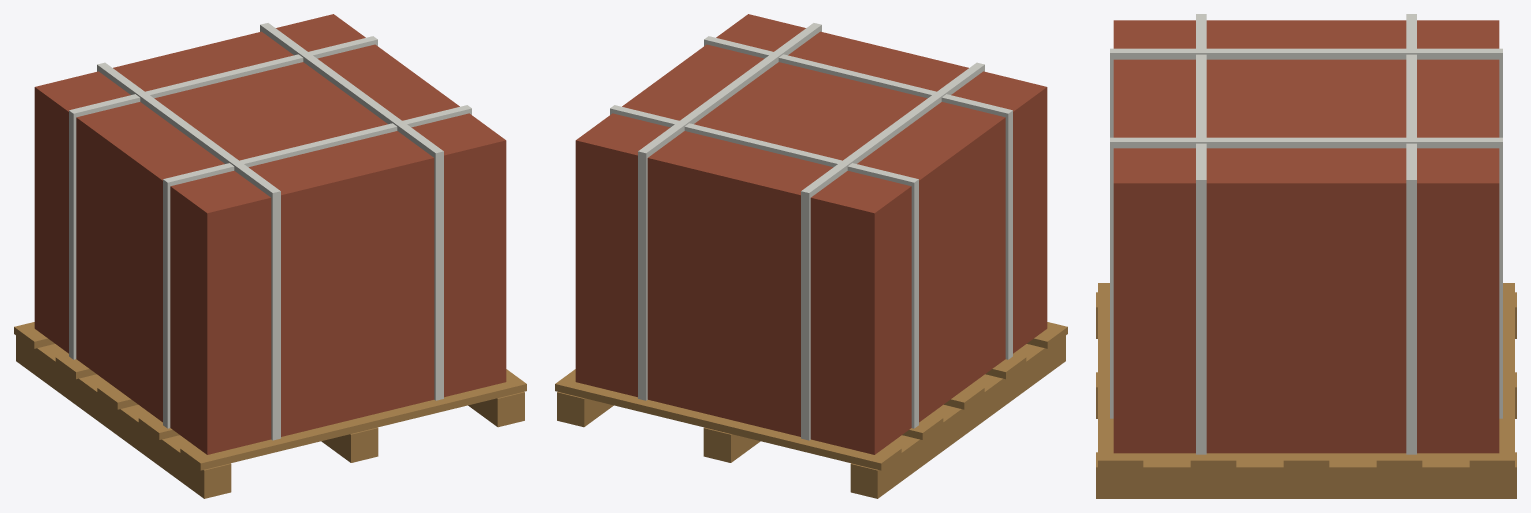
File: gs-brick-pallet.glb
The picture shows the model from 3 angles, left to right: view 1: azimuth 30°, elevation 25°; view 2: azimuth 150°, elevation 25°; view 3: azimuth 270°, elevation 25°; orthographic projection. The views are drawn at different scales.
Visible parts, largest first — view 1: gs-brick-pallet; view 2: gs-brick-pallet; view 3: gs-brick-pallet.
Part boxes in pixels (box(x1,y1,x2,y2)): gs-brick-pallet: box(14, 14, 526, 498); gs-brick-pallet: box(555, 14, 1067, 498); gs-brick-pallet: box(1096, 14, 1516, 498).
Size of the model in its own units: 1.2 by 0.995 by 1.2.
